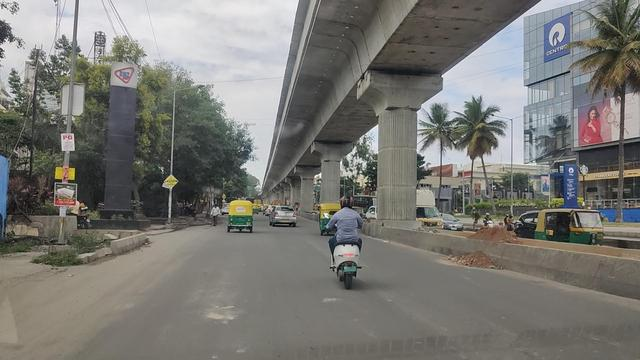LMV: (326, 186, 368, 295), (229, 198, 256, 230)
